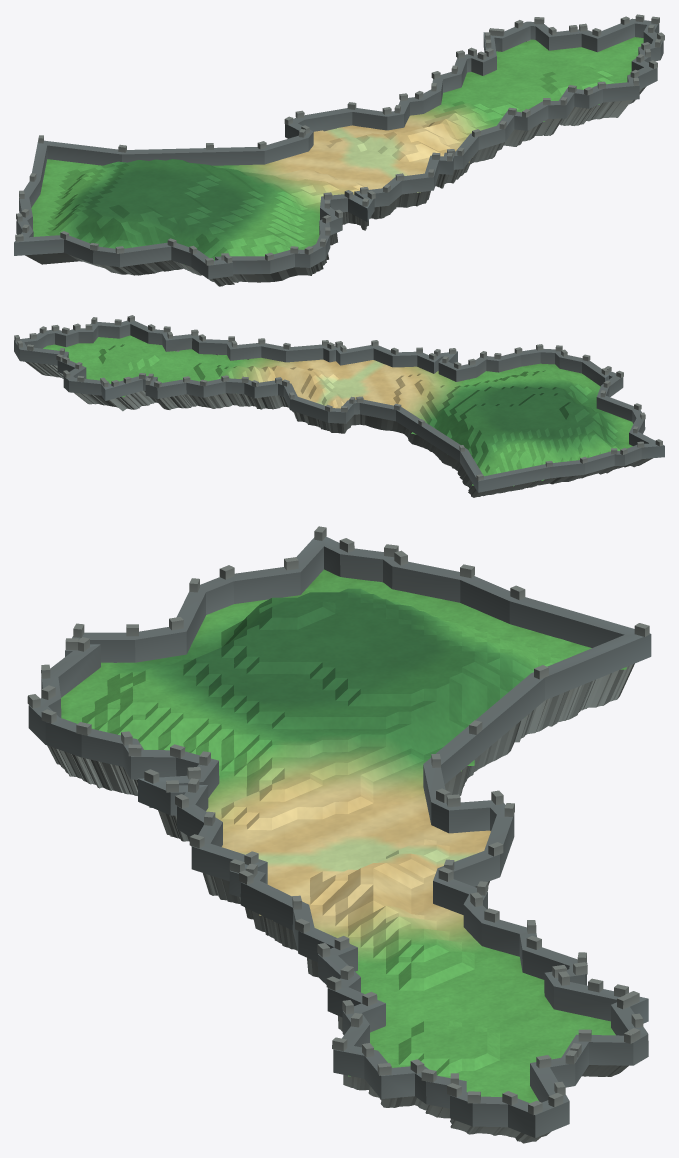
3 views of the same model, one above another, from view 1: azimuth 30°, elevation 25°; view 2: azimuth 150°, elevation 25°; view 3: azimuth 270°, elevation 25° (orthographic). The views are drawn at different scales.
Visible parts, largest first — view 1: ground_da9faa63; view 2: ground_da9faa63; view 3: ground_da9faa63.
Boxes of the visible parts, <box> form: ground_da9faa63: <box>14,14,664,286</box>; ground_da9faa63: <box>14,315,664,497</box>; ground_da9faa63: <box>27,526,651,1143</box>.
Bounding box in the file's own units: 163 × 9.03 × 73.87.
2 materials, 1 textured.
